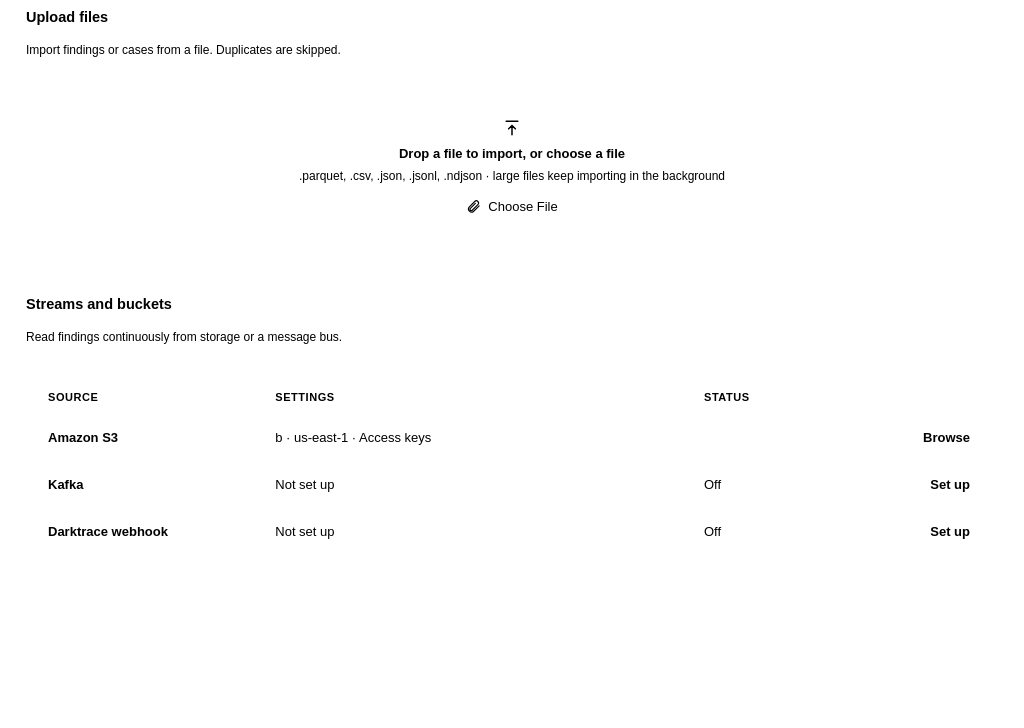
Test: streams row state › keeps a browsed file list when the row is collapsed and reopened
Click the button with aria-label "Browse Amazon S3".
click(946, 437)  # box [917,426,976,449]
(page scrolled)
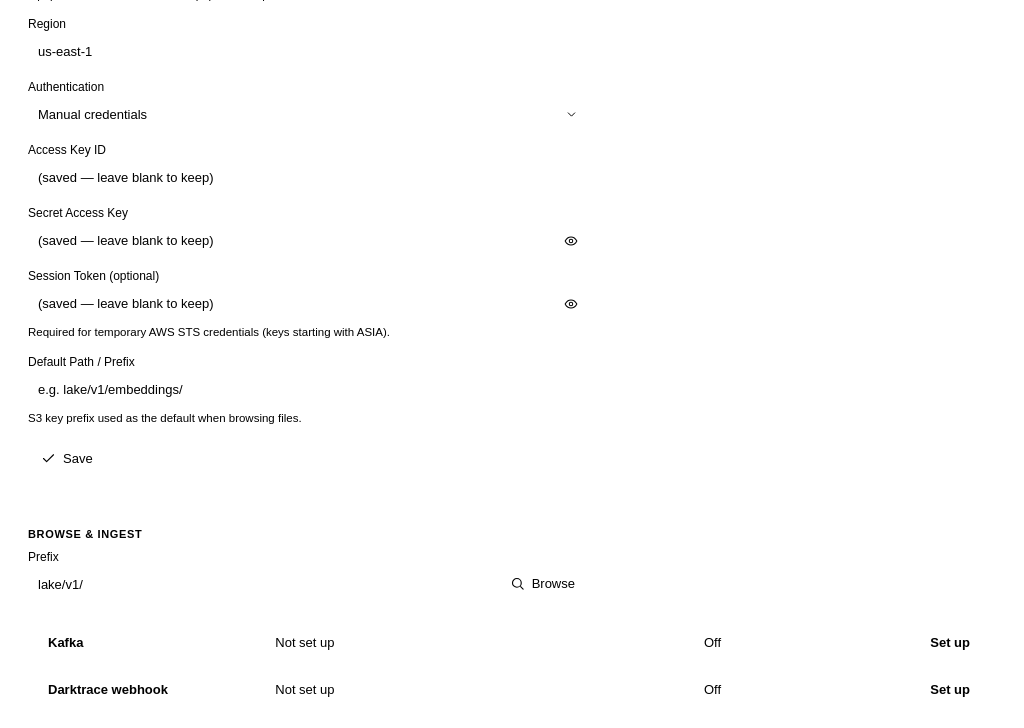
Click the button "Browse".
click(542, 584)  # box [497,568,588,599]
(page scrolled)
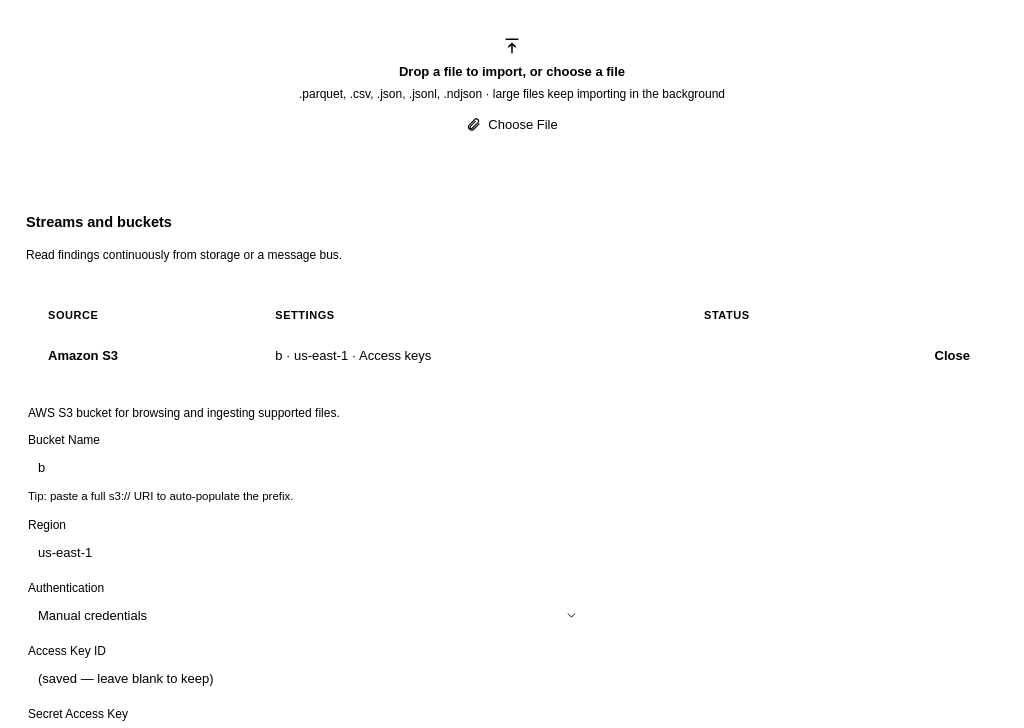
Click the button with aria-label "Close Amazon S3".
click(952, 355)  # box [929,344,976,367]
(page scrolled)
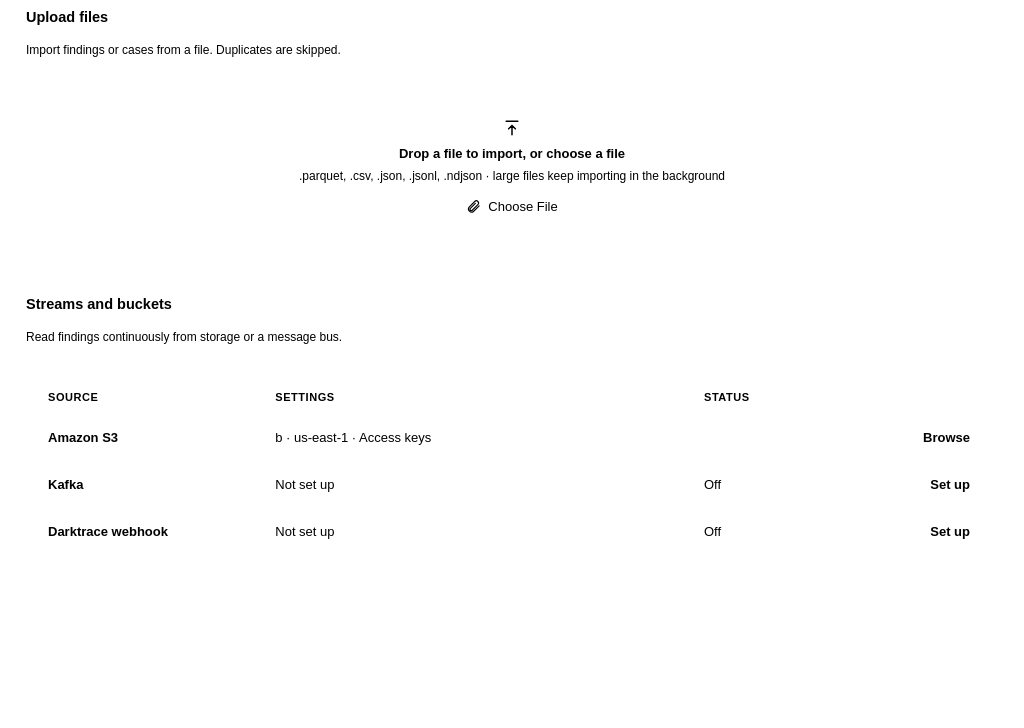
Click the button with aria-label "Browse Amazon S3".
click(946, 437)  # box [917,426,976,449]
(page scrolled)
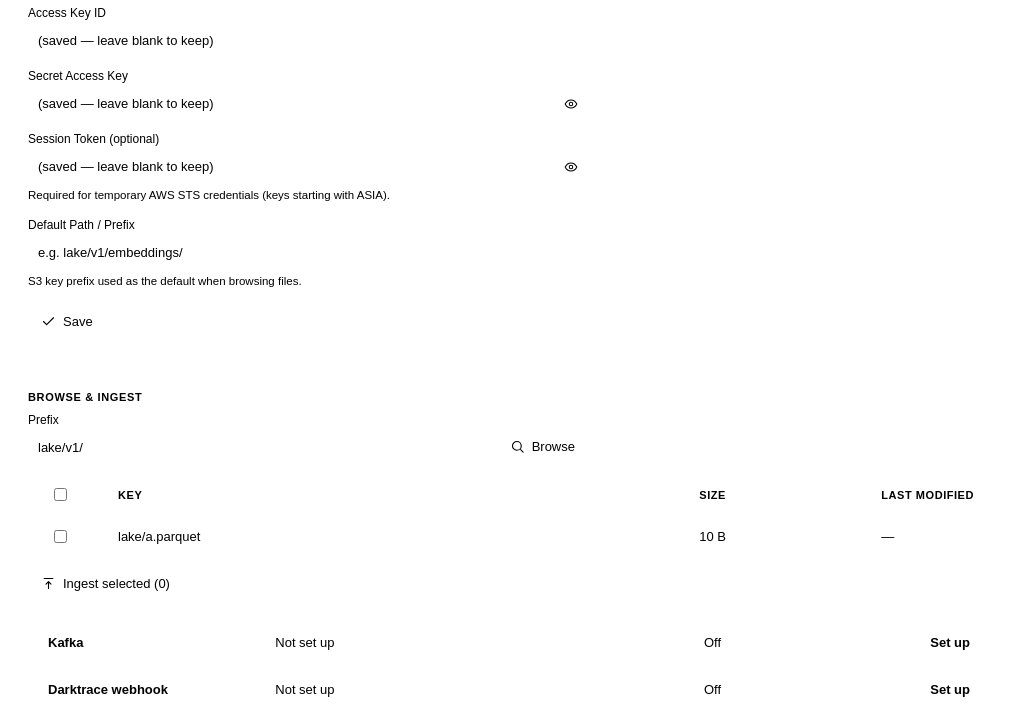
Expected: the text "lake/a.parquet" is shown, [102,515,683,558]
